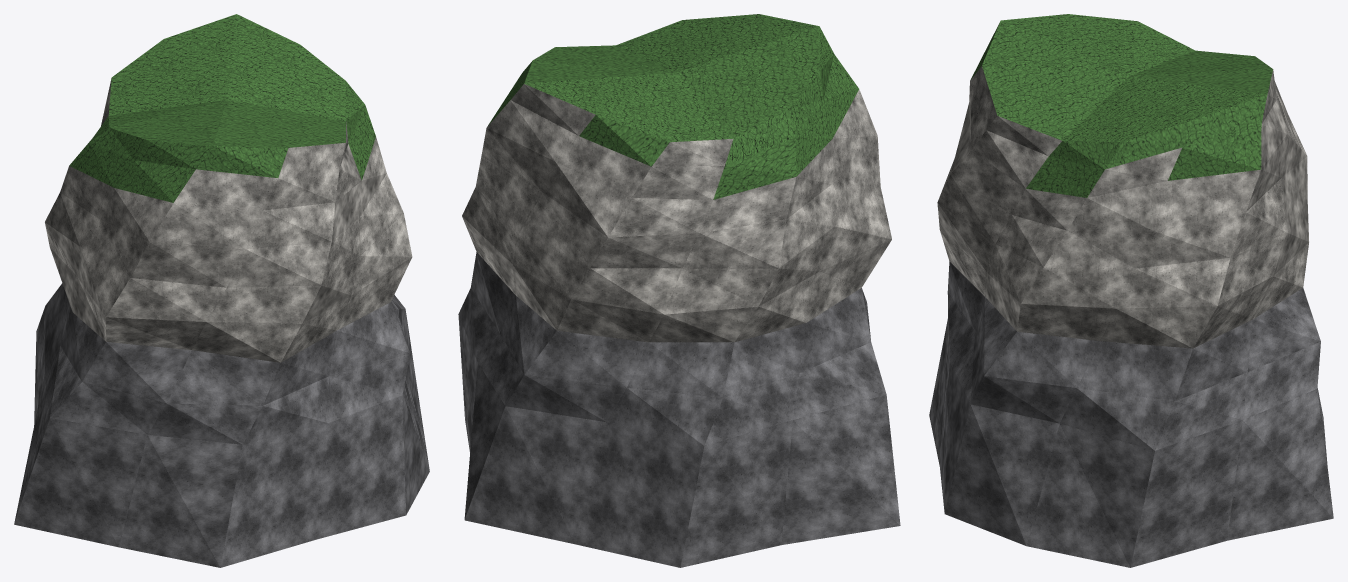
File: sea_islet.fbx
3 views of the same model, side by side, from view 1: azimuth 30°, elevation 25°; view 2: azimuth 150°, elevation 25°; view 3: azimuth 270°, elevation 25° (orthographic). The views are drawn at different scales.
Visible parts, largest first — view 1: sea_islet; view 2: sea_islet; view 3: sea_islet.
Boxes of the visible parts, left/top/right/bottom form: sea_islet: left=14, top=14, right=429, bottom=567; sea_islet: left=458, top=14, right=900, bottom=567; sea_islet: left=929, top=14, right=1333, bottom=567.
Size of the model in its own units: 864 by 792 by 706.
